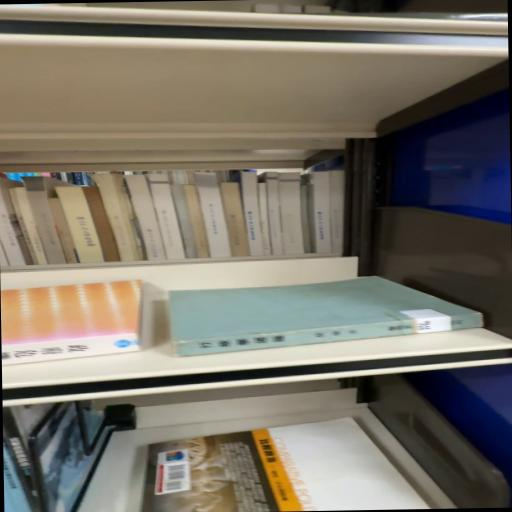flat: (143, 419, 430, 512), (169, 277, 483, 358)
